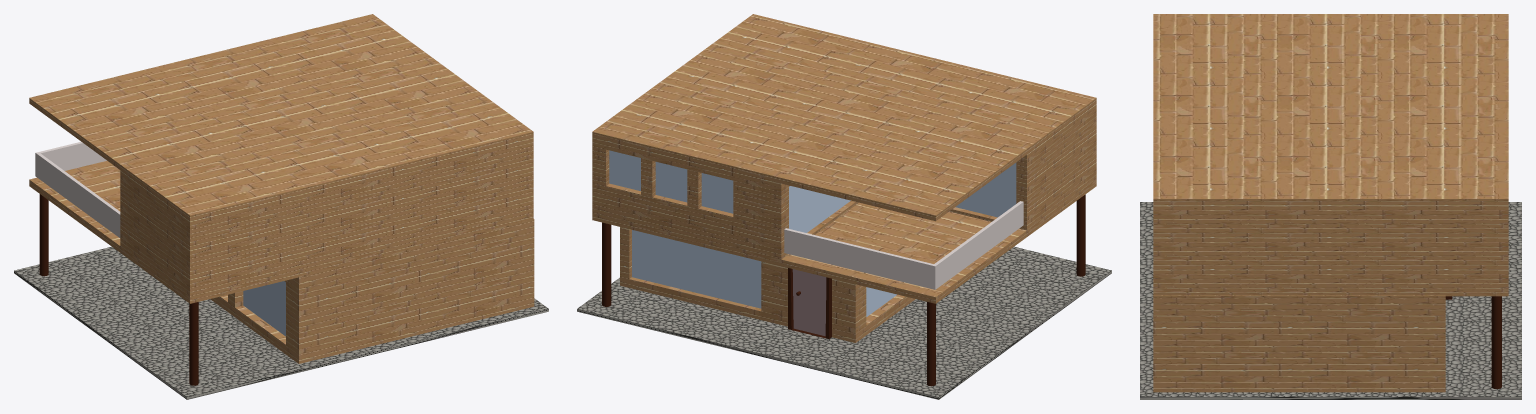
File: house4.fbx
3 renders of one model, left to right at view 1: azimuth 30°, elevation 25°; view 2: azimuth 150°, elevation 25°; view 3: azimuth 270°, elevation 25°, orthographic. The views are drawn at different scales.
Parts seen in each view (by area): view 1: Cube.002, Cube.001, Cube, Cube.004, Cube.003, Cylinder, Cylinder.001; view 2: Cube.002, Cube, Cube.001, Cube.003, Door, Cube.004, Cylinder.002, Cylinder, Cylinder.001; view 3: Cube.002, Cube.001, Cube, Cylinder.002.
Part boxes in pixels (x1,y1,x2,y2): Cube.002: (29,14,533,303); Cube.001: (210,219,534,363); Cube: (14,246,548,399); Cube.004: (35,152,120,237); Cube.003: (39,141,106,170); Cylinder: (189,302,198,385); Cylinder.001: (39,194,48,276); Cube.002: (592,14,1096,303); Cube: (577,246,1111,399); Cube.001: (620,227,915,342); Cube.003: (784,228,936,288); Door: (788,268,831,338); Cube.004: (932,201,1023,289); Cylinder.002: (602,222,611,306); Cylinder: (1076,194,1085,276); Cylinder.001: (927,302,935,386); Cube.002: (1153,14,1508,296); Cube.001: (1153,295,1445,392); Cube: (1140,202,1521,399); Cylinder.002: (1491,296,1501,388).
Size of the model in its own units: 3219 by 1510 by 2666.
